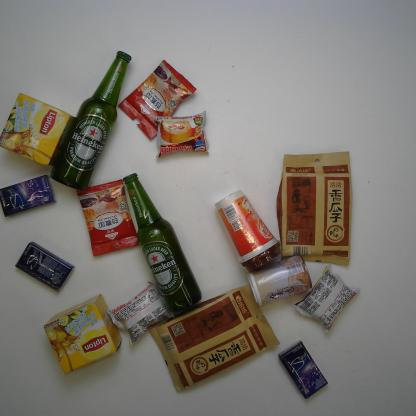Alcohol: (50, 50, 132, 192), (122, 172, 202, 315)
Canned Food: (247, 256, 313, 308)
Dessert: (292, 264, 361, 335), (105, 281, 174, 347), (151, 110, 209, 160)
Dried Food: (149, 282, 281, 392), (275, 151, 353, 267)
Gum: (278, 339, 329, 399), (14, 241, 75, 291), (0, 174, 57, 217)
Instant Drink: (42, 293, 123, 376), (117, 60, 198, 141), (214, 189, 283, 273), (0, 92, 75, 166), (76, 178, 140, 258)
